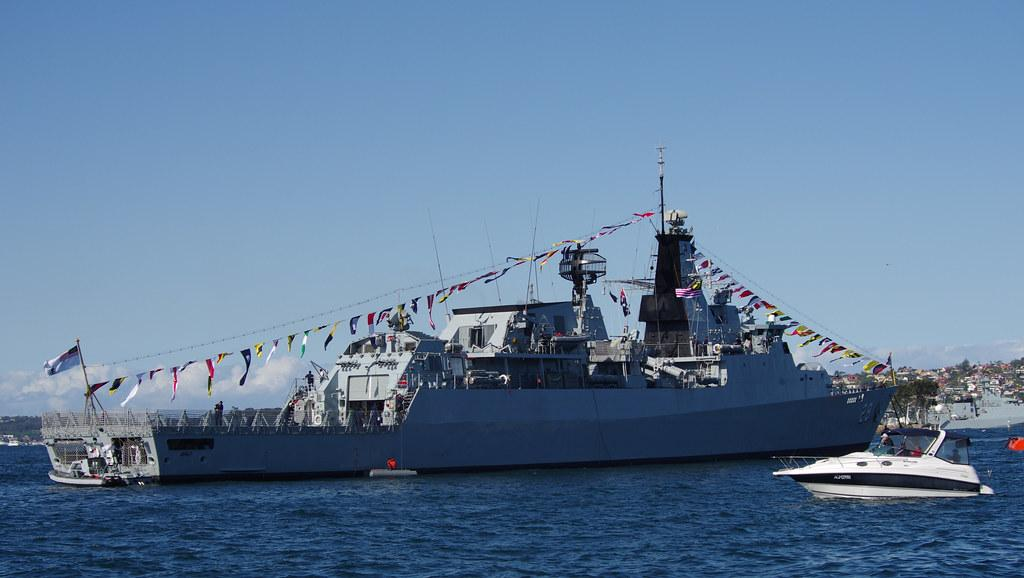Warship: (38, 138, 912, 504)
